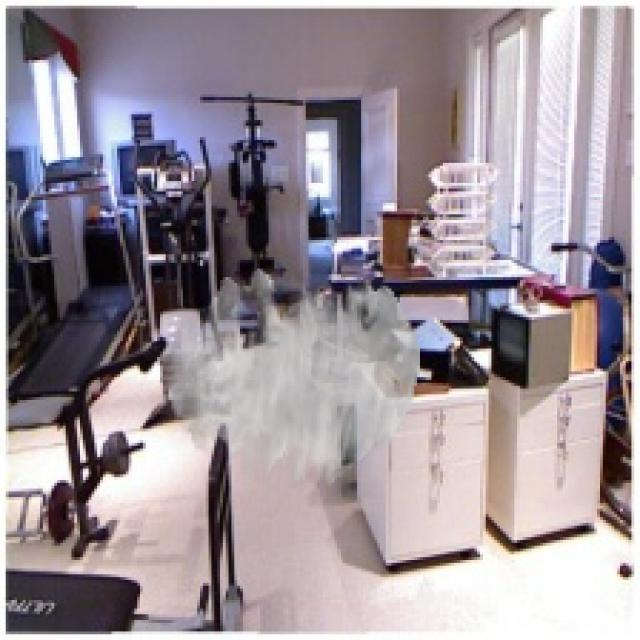smoke: (169, 268, 420, 488)
